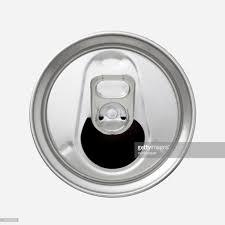Aluminum can: (36, 23, 203, 202)
